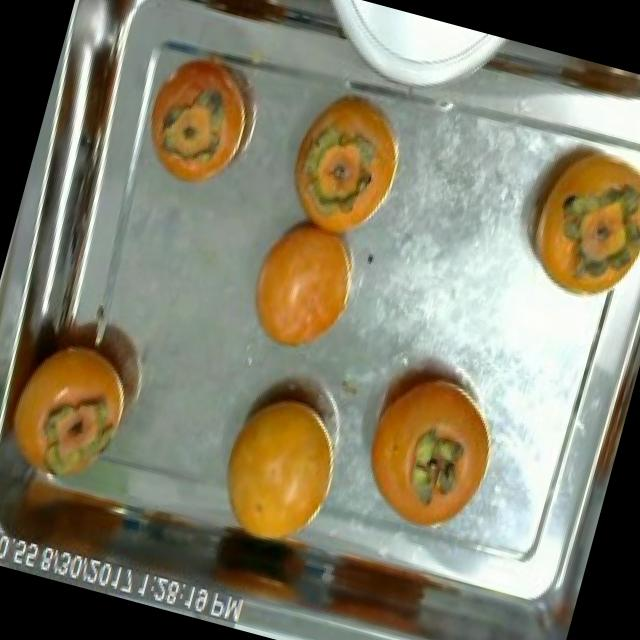Fruit: (343, 350, 516, 548), (264, 62, 430, 260), (196, 373, 360, 565), (499, 96, 640, 319), (118, 26, 284, 212), (0, 318, 156, 511), (228, 198, 372, 372)
